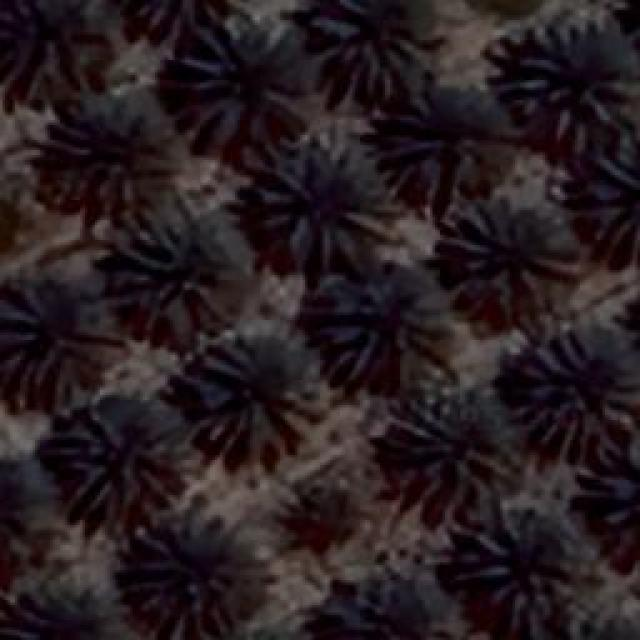PalmTree: (122, 34, 581, 627), (124, 512, 276, 640), (255, 140, 400, 268), (171, 34, 319, 158), (188, 330, 322, 460), (456, 506, 586, 636), (320, 270, 462, 385), (518, 328, 638, 462), (371, 96, 514, 204), (512, 20, 638, 138), (5, 274, 120, 402), (390, 382, 512, 502), (62, 402, 190, 516), (444, 195, 578, 290), (51, 111, 174, 214), (0, 0, 125, 95), (113, 215, 220, 325), (312, 0, 430, 98), (321, 567, 436, 640), (0, 461, 62, 583), (3, 590, 128, 640), (587, 130, 635, 260), (595, 450, 640, 585), (292, 484, 360, 556), (519, 622, 640, 640), (119, 18, 171, 34)
